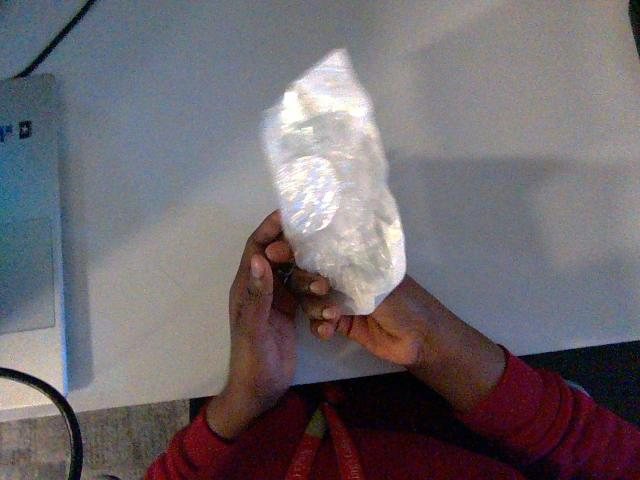gallipot: (263, 50, 405, 313)
